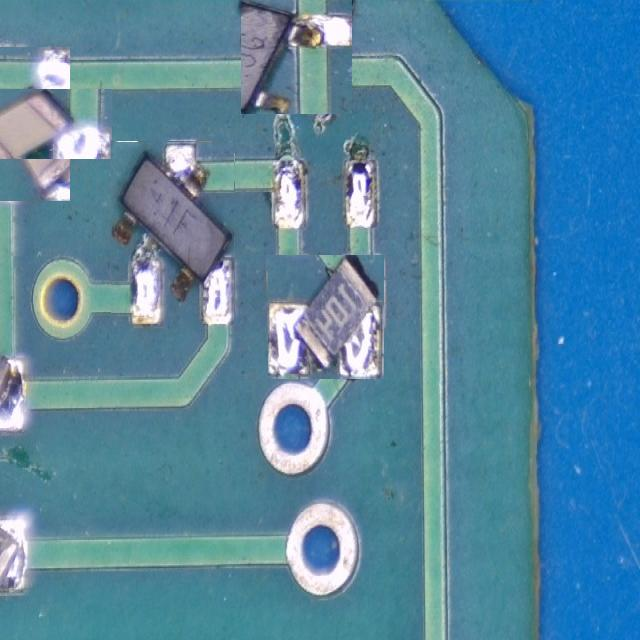Incorrect_installation: (112, 141, 233, 324), (269, 256, 384, 378), (242, 0, 351, 114), (0, 89, 111, 159)
